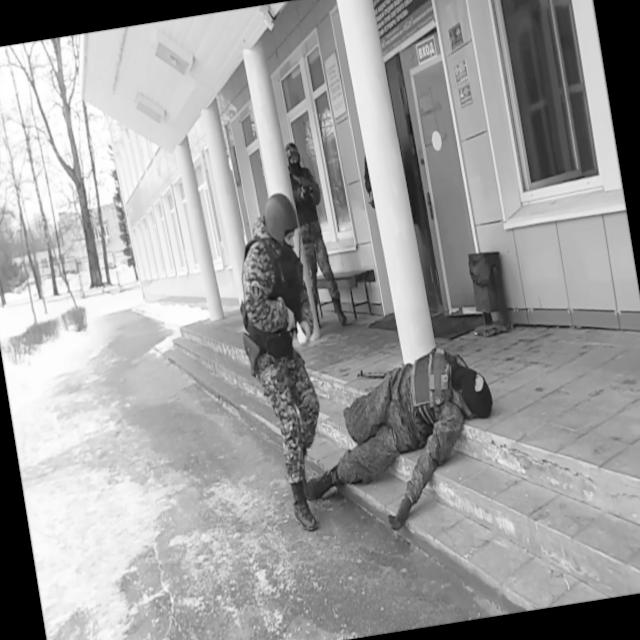gun: (288, 168, 322, 206), (241, 328, 266, 379), (354, 362, 390, 386)
person with a gun: (286, 338, 512, 546), (220, 188, 346, 534), (281, 136, 350, 334)
